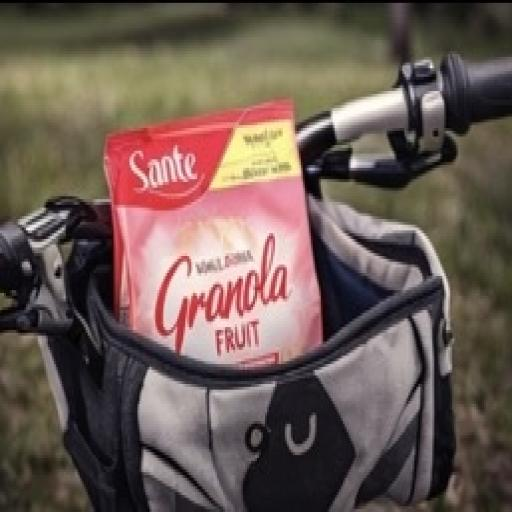granola: (80, 102, 380, 411)
